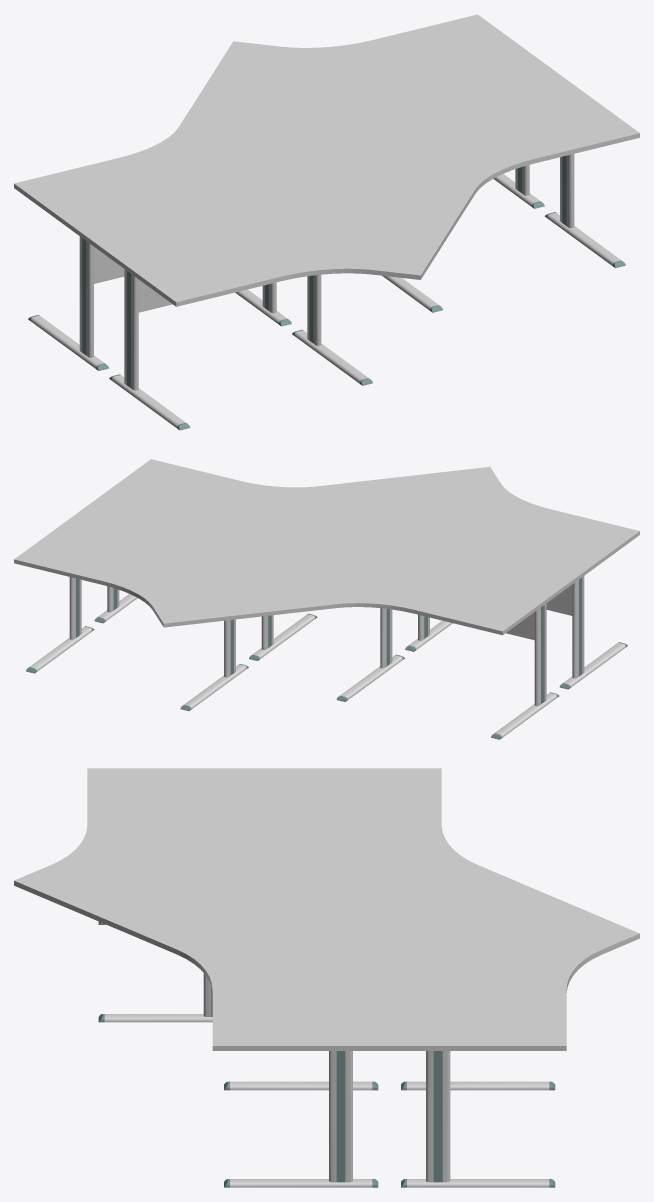
File: Desk_2.fbx
3 renders of one model, top to bottom at view 1: azimuth 30°, elevation 25°; view 2: azimuth 150°, elevation 25°; view 3: azimuth 270°, elevation 25°, orthographic. The views are drawn at different scales.
Visible parts, largest first — view 1: Desk_2; view 2: Desk_2; view 3: Desk_2.
Boxes of the visible parts, x1,y1,x2,y2 form: Desk_2: (14,14,639,430); Desk_2: (14,459,639,739); Desk_2: (14,768,639,1187).
Bounding box in the file's own units: 289 × 71.22 × 276.
